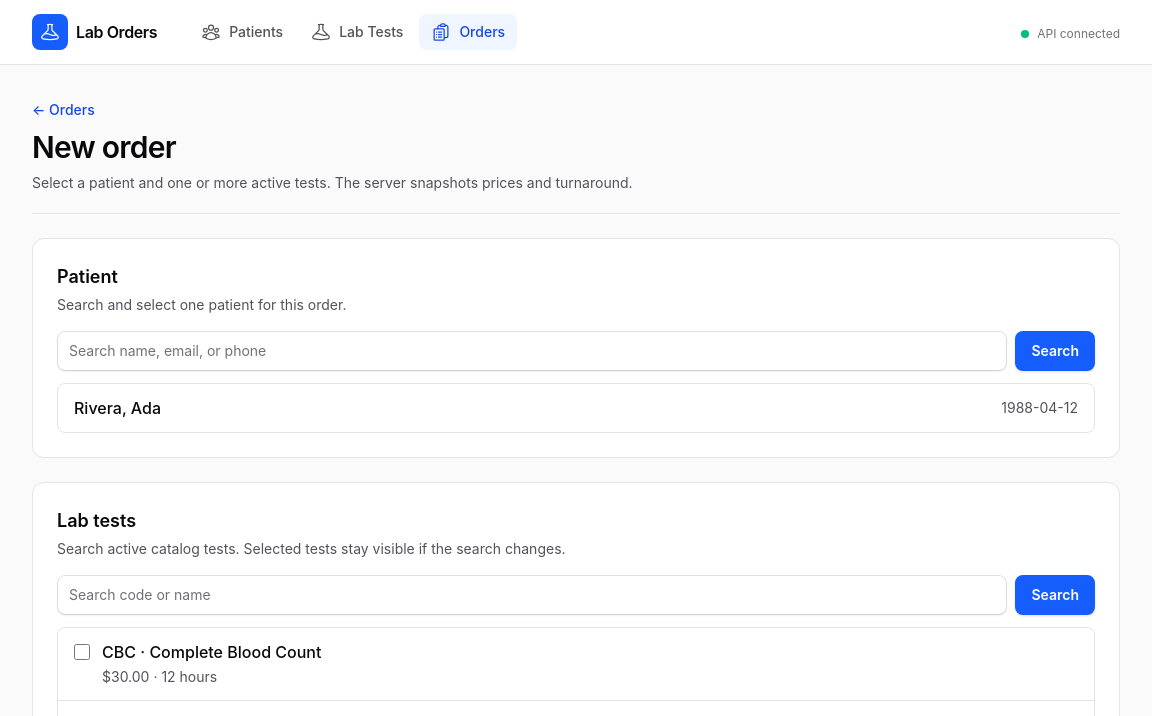
Test case: keeps a selected test visible after the catalog search changes
The width and height of the screenshot is (1152, 716).
Click the checkbox labelled "CBC · Complete Blood Count $30.00 · 12 hours" at (82, 652), box 74,644 -> 90,660
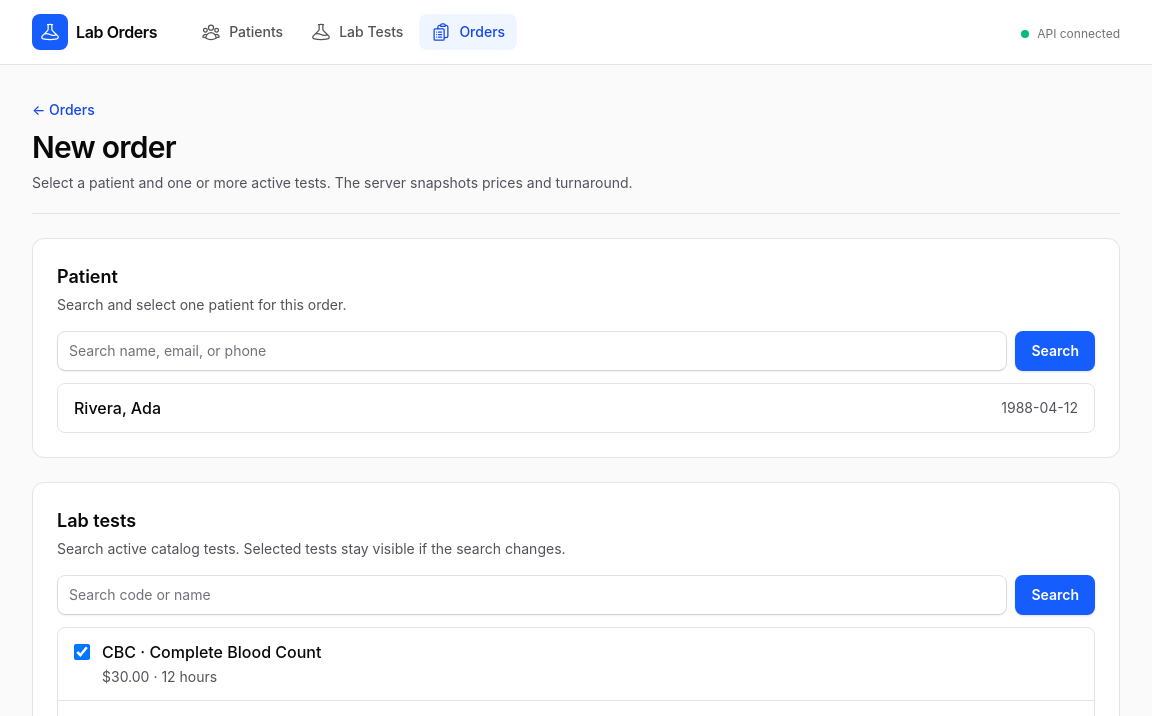
Type "cmp" into the field named "Search lab tests" at (532, 595), box 57,575 -> 1008,615
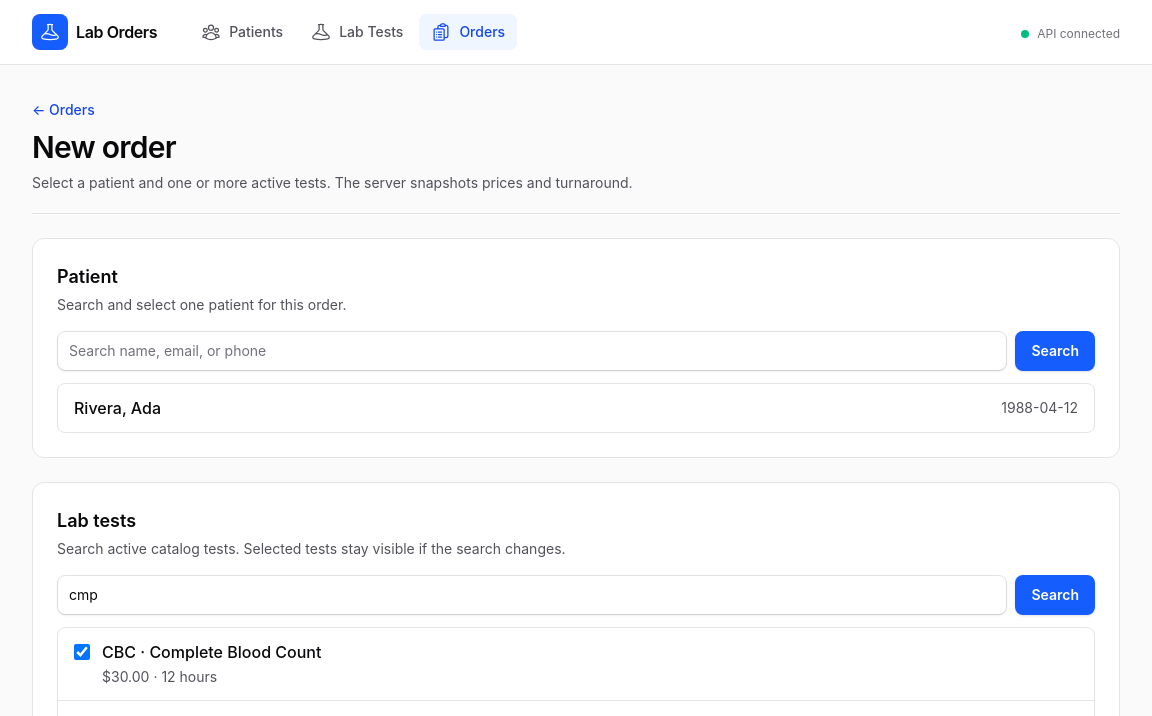
Submit the form named "Search lab tests", box 57,575 -> 1095,615
(page scrolled)
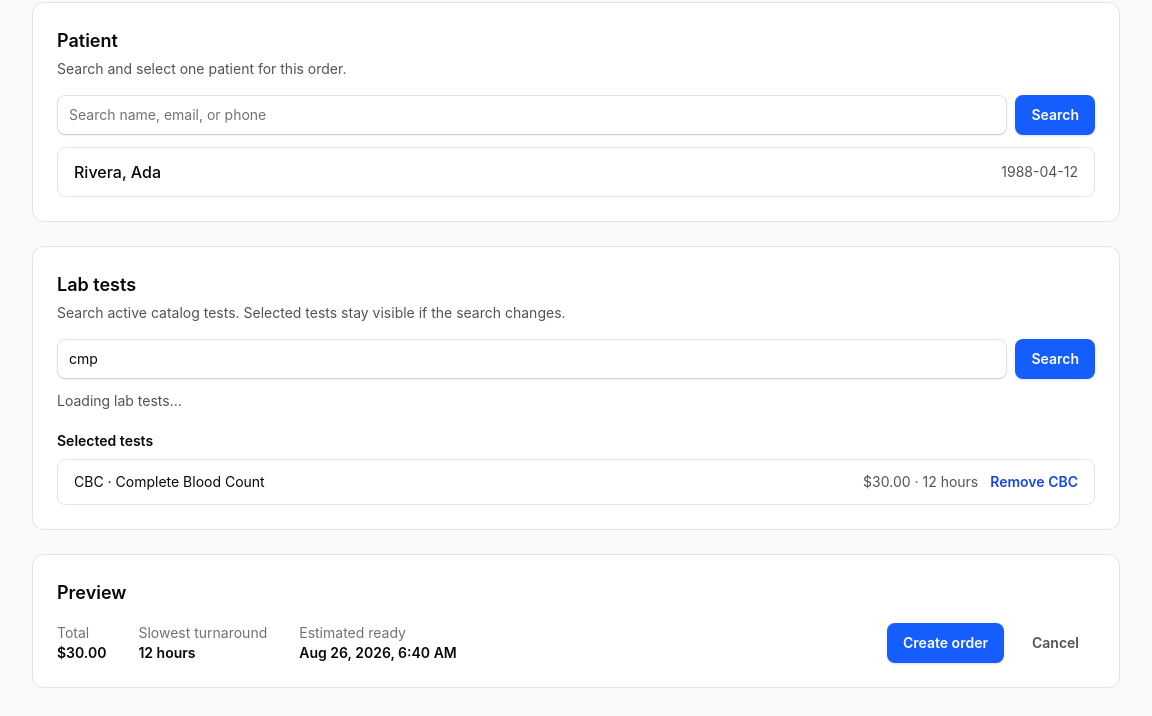
Expected: the text "CBC · Complete Blood Count" is shown, 74,472 -> 265,492
Now the heading "Selected tests" is shown, box 57,432 -> 153,449
Click the button "Remove CBC" at (1034, 482), box 990,472 -> 1078,492
(page scrolled)
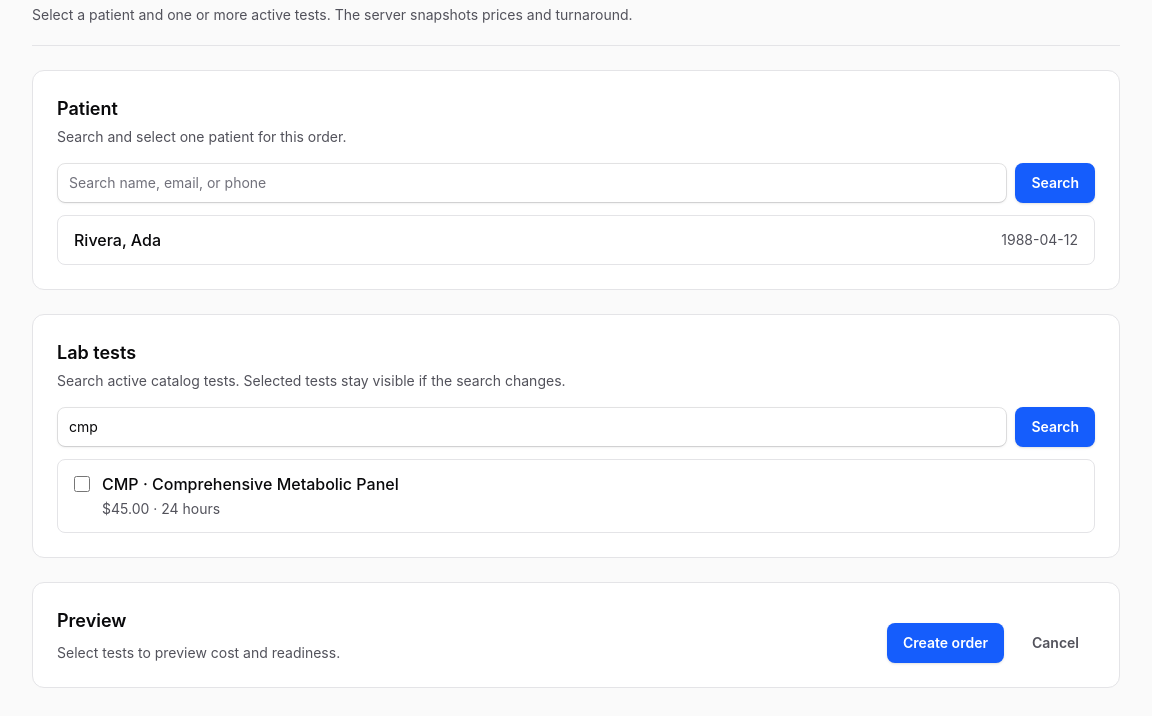
Now the text "CBC · Complete Blood Count" is gone
